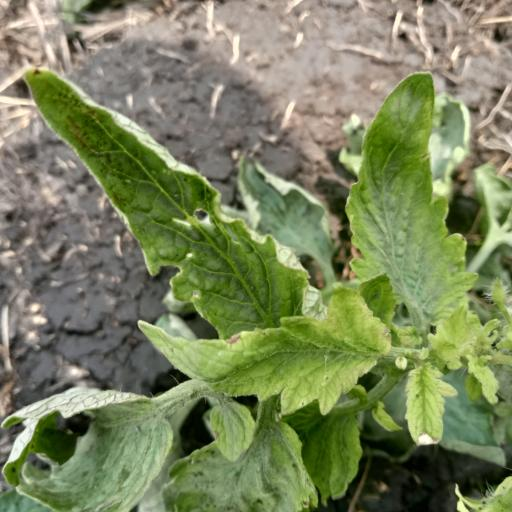Tomato_Mosaic: (0, 64, 307, 323)
